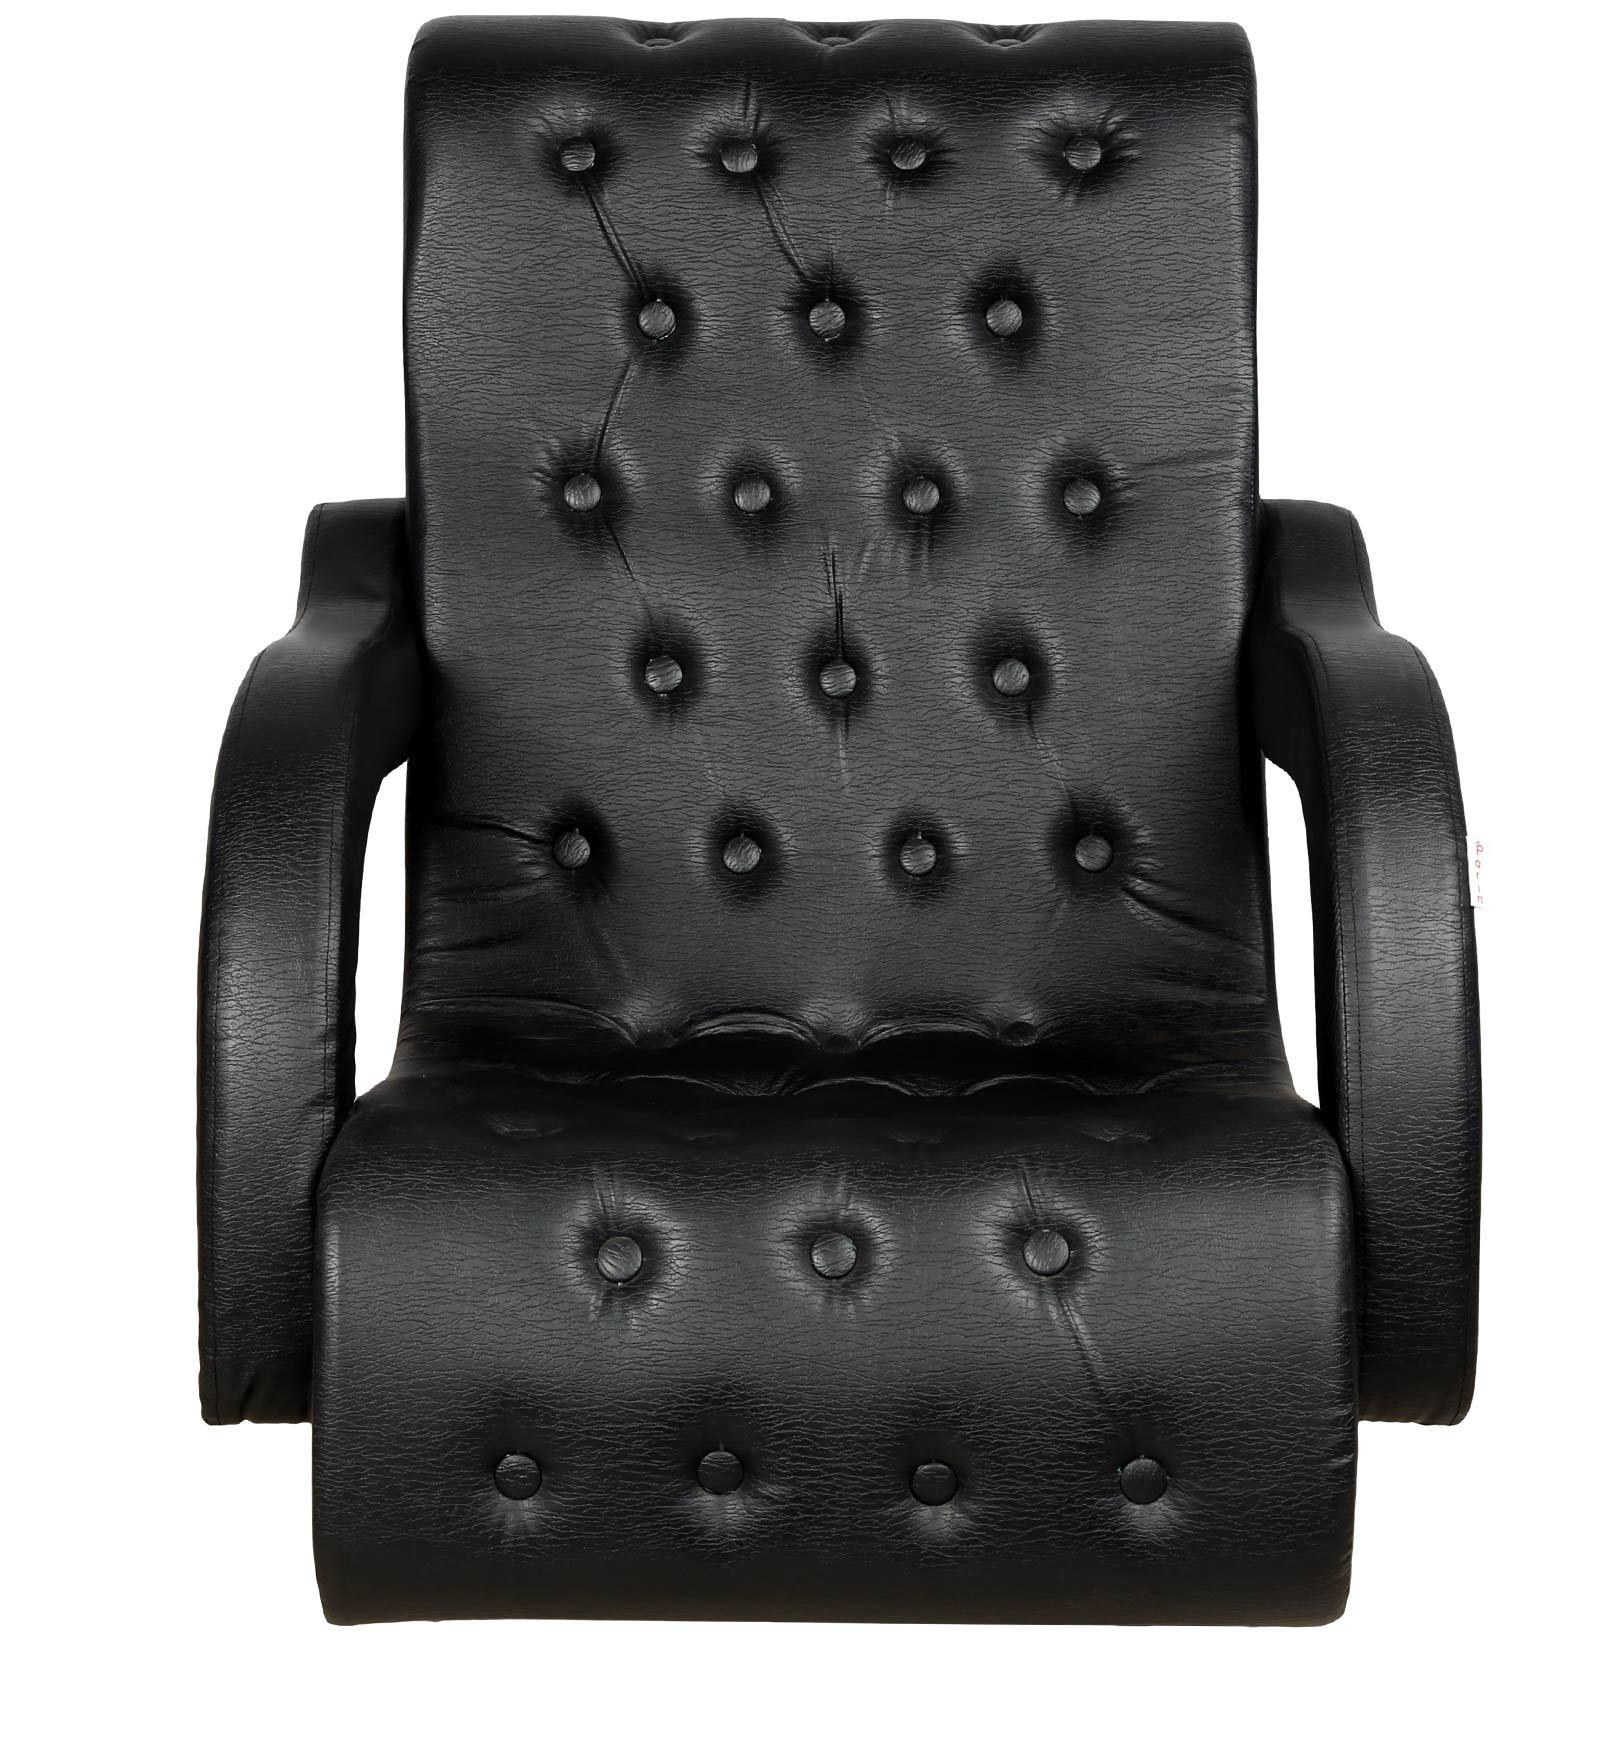Alex Low Seating Rocking Chair with Arm Rest in Black Colour by Parin: (181, 9, 1479, 1671)
